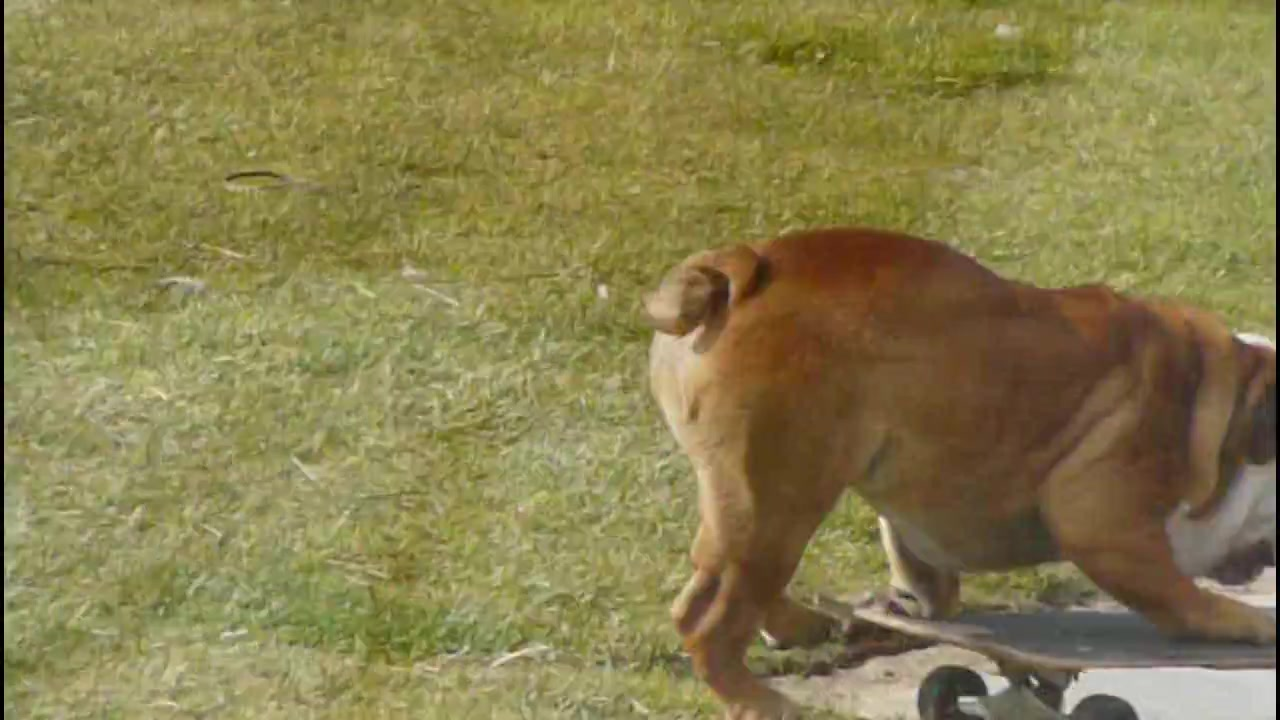dog: (643, 225, 1277, 714)
